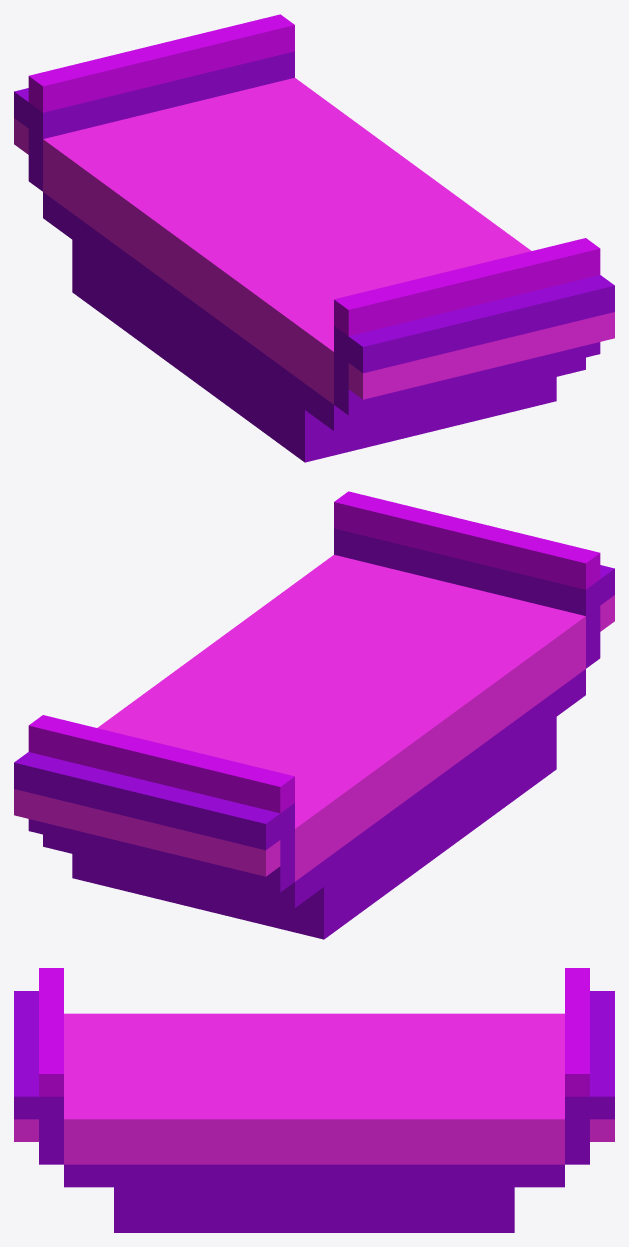
The model's file is BouncyMiddle.obj.
3 views of the same model, one above another, from view 1: azimuth 30°, elevation 25°; view 2: azimuth 150°, elevation 25°; view 3: azimuth 270°, elevation 25° (orthographic). The views are drawn at different scales.
Bounding box in the file's own units: 10 × 7 × 24.
1 material, 1 textured.
